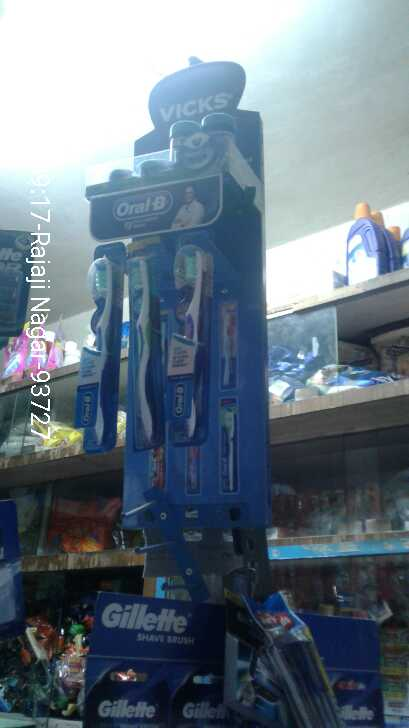beauty: (71, 604, 251, 728)
pharmacy: (157, 245, 220, 448), (66, 253, 112, 449), (120, 245, 159, 453), (151, 102, 259, 176)
